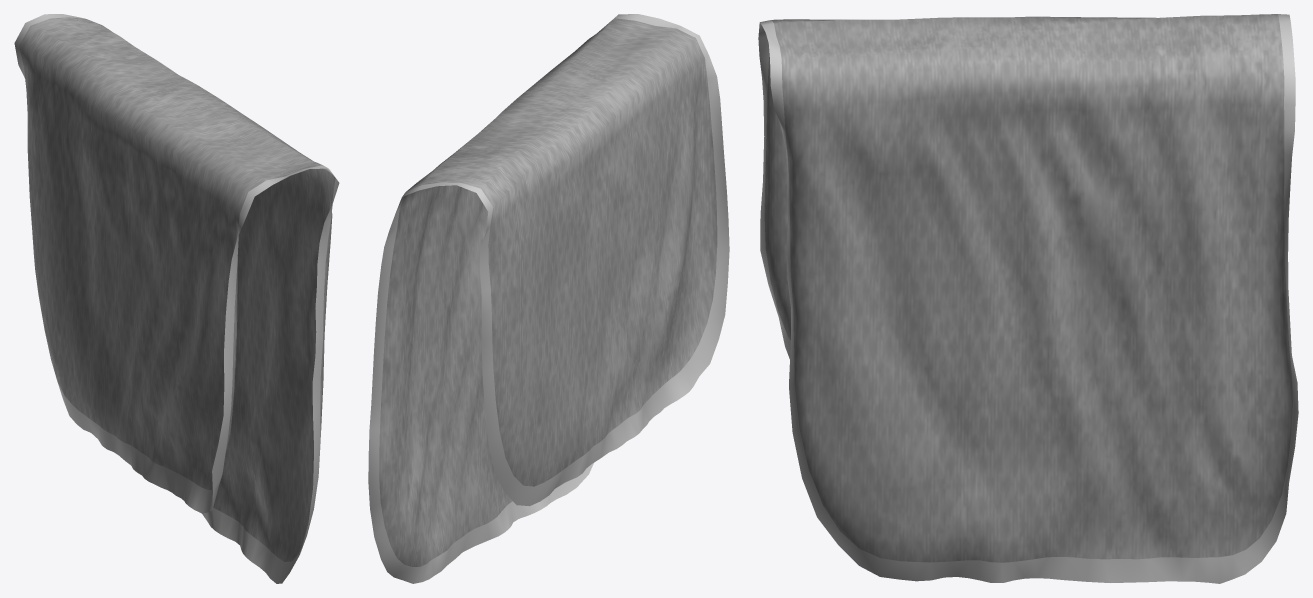
The model's file is SM_Fabric-HangingSmall.fbx.
3 views of the same model, side by side, from view 1: azimuth 30°, elevation 25°; view 2: azimuth 150°, elevation 25°; view 3: azimuth 270°, elevation 25° (orthographic). The views are drawn at different scales.
Parts seen in each view (by area): view 1: SM_Fabric-HangingSmall_LOD0; view 2: SM_Fabric-HangingSmall_LOD0; view 3: SM_Fabric-HangingSmall_LOD0.
Boxes of the visible parts, x1,y1,x2,y2 form: SM_Fabric-HangingSmall_LOD0: [14, 14, 339, 583]; SM_Fabric-HangingSmall_LOD0: [368, 14, 729, 583]; SM_Fabric-HangingSmall_LOD0: [758, 14, 1298, 583].
Bounding box in the file's own units: 33.74 × 95.25 × 102.
2 materials, 1 textured.
